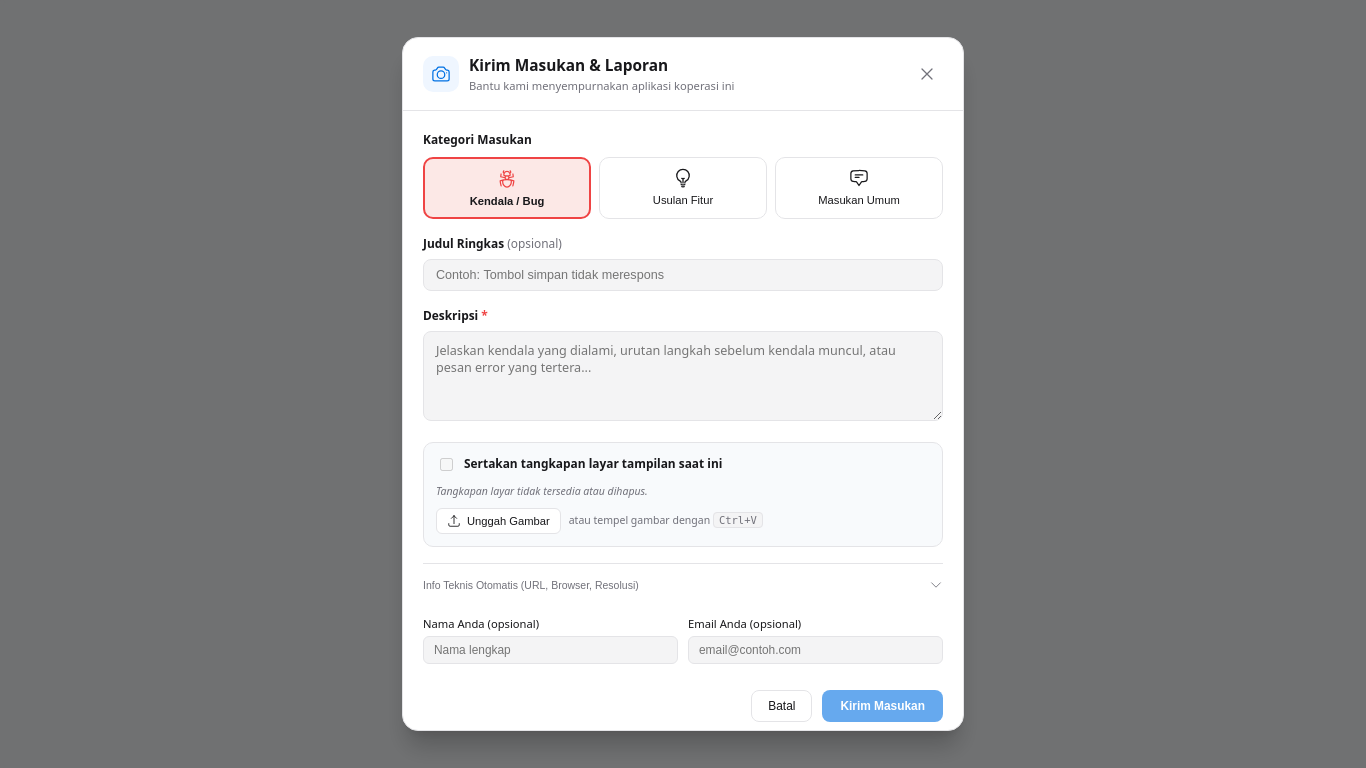
it: FeedbackDialog Component › toggles technical metadata details
The width and height of the screenshot is (1366, 768).
Click the button "Info Teknis Otomatis (URL, Browser, Resolusi)". click: (531, 585)
box: [423,574,943,596]
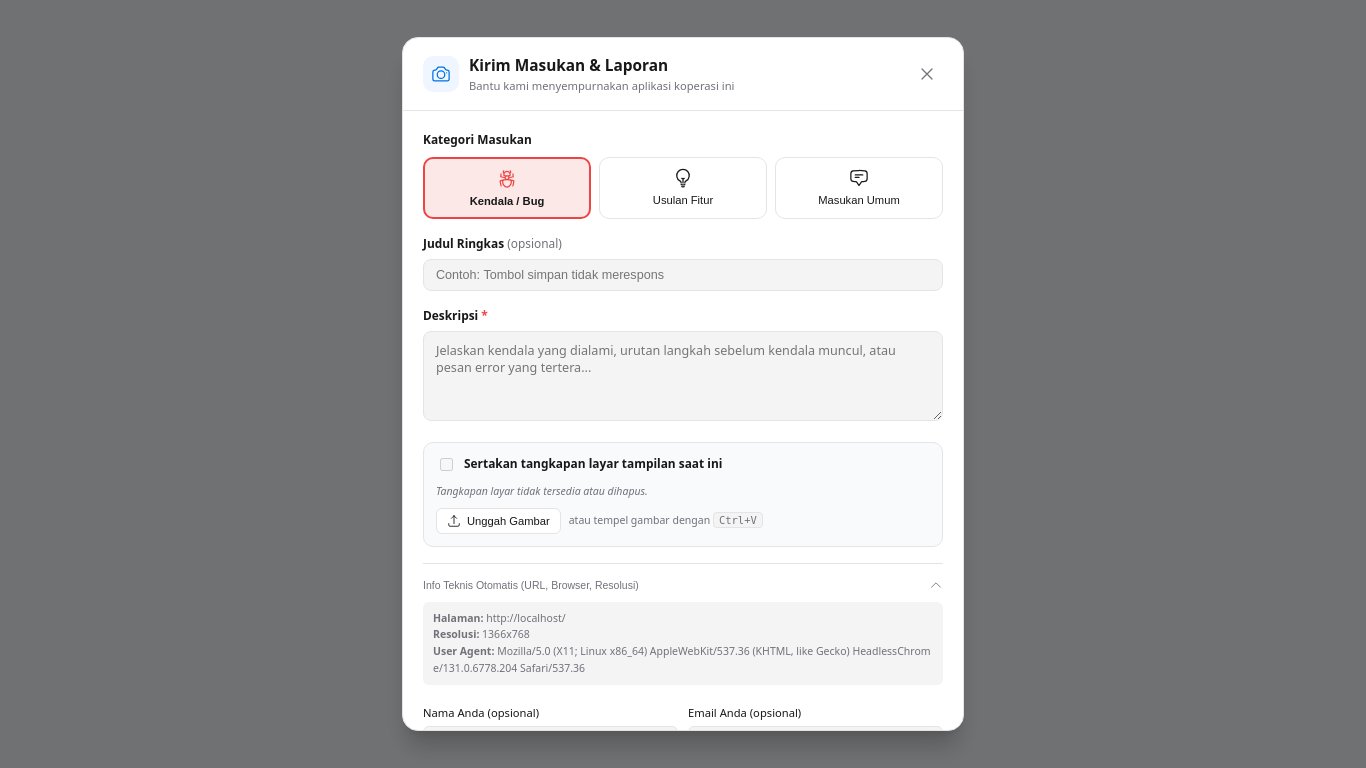
Check: the text "User Agent:" is shown, box [433,644,494,658]
Check: the text "Resolusi:" is shown, box [433,627,479,641]
